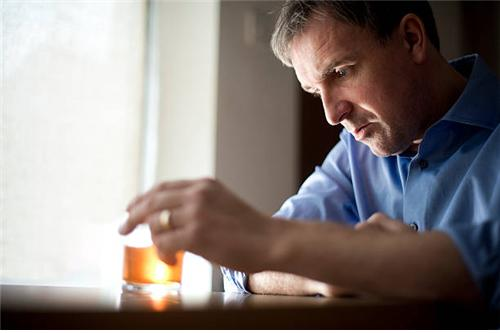alcohol: (120, 218, 183, 307)
